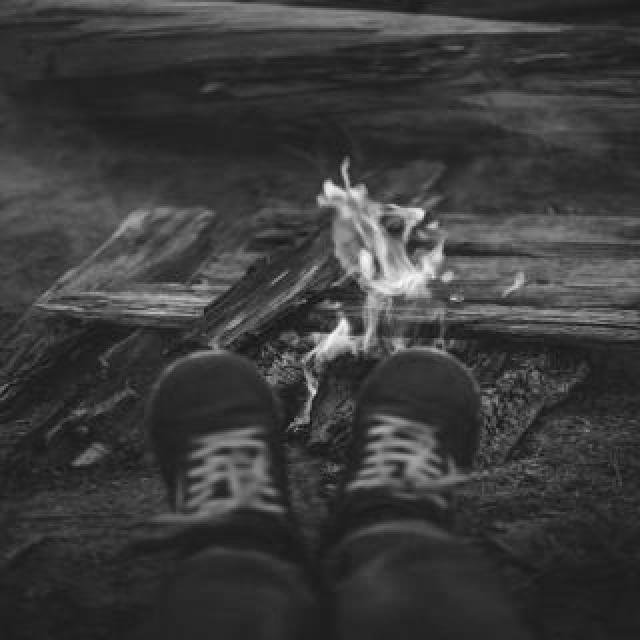Fire: (326, 148, 482, 372)
